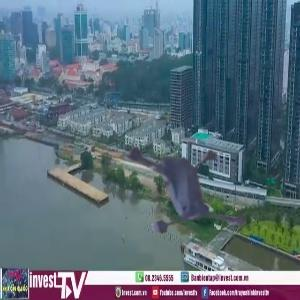drone: (90, 111, 241, 262)
